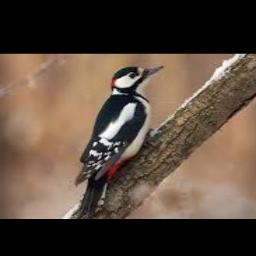Woodpecker: (76, 65, 165, 219)
